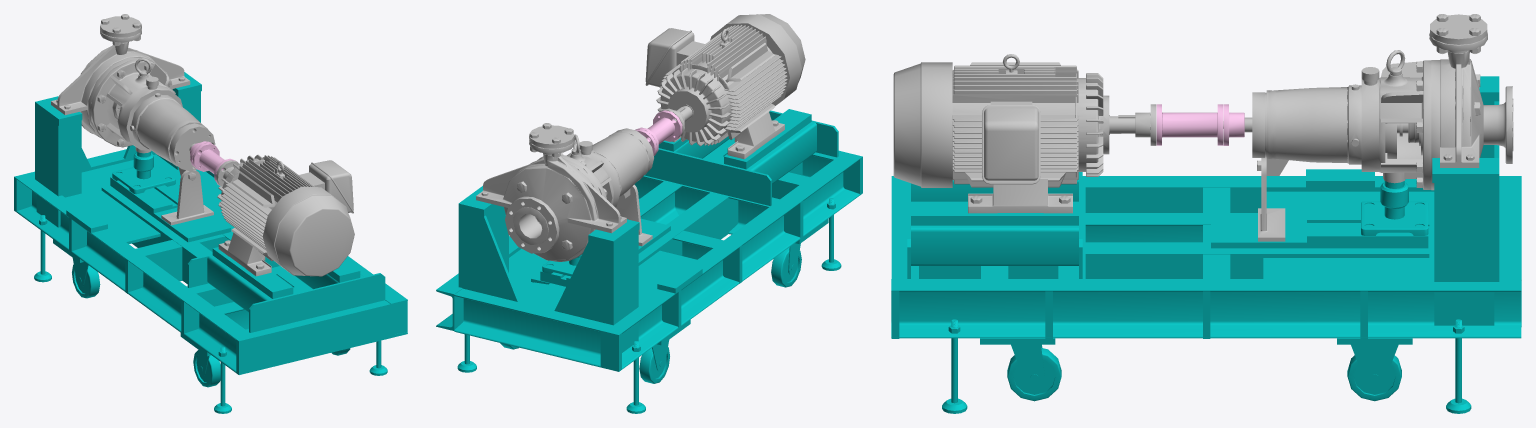
The model's file is model05_kansui_pomp_01.fbx.
3 views of the same model, side by side, from view 1: azimuth 30°, elevation 25°; view 2: azimuth 150°, elevation 25°; view 3: azimuth 270°, elevation 25° (orthographic). The views are drawn at different scales.
Parts seen in each view (by area): view 1: solid94, solid75, solid39, solid85, solid76, solid47, solid65, solid12, solid66, solid84, solid89, solid46 (+29 smaller); view 2: solid94, solid75, solid12, solid68, solid73, solid39, solid45, solid61, solid47, solid66, solid65, solid84 (+27 smaller); view 3: solid71, solid94, solid39, solid67, solid62, solid75, solid86, solid12, solid47, solid66, solid46, solid52 (+20 smaller).
Part boxes in pixels (x1,y1,x2,y2): solid94: (217,154,354,276); solid75: (14,173,255,374); solid39: (90,58,207,176); solid85: (246,300,390,370); solid76: (249,273,385,332); solid47: (65,154,225,243); solid65: (36,110,81,227); solid12: (51,29,190,145); solid66: (101,185,310,361); solid84: (207,255,272,312); solid89: (112,151,175,194); solid46: (110,182,230,242); solid94: (645,14,805,159); solid75: (602,152,862,371); solid12: (476,139,626,261); solid68: (454,288,608,367); solid73: (644,148,771,205); solid39: (537,132,649,207); solid45: (458,211,519,301); solid61: (554,242,615,325); solid47: (509,248,696,308); solid66: (638,162,802,265); solid65: (615,230,638,352); solid84: (747,122,816,183); solid71: (891,279,1521,338); solid94: (893,54,1135,213); solid39: (1266,50,1431,189); solid67: (891,242,1429,278); solid62: (1434,183,1494,325); solid75: (891,176,1521,212); solid86: (911,225,1078,265); solid12: (1429,32,1513,167); solid47: (1263,191,1434,278); solid66: (891,213,1429,242); solid46: (1211,213,1428,248); solid52: (1337,338,1412,401).
Size of the model in its own units: 0.66 by 0.873 by 1.5.
